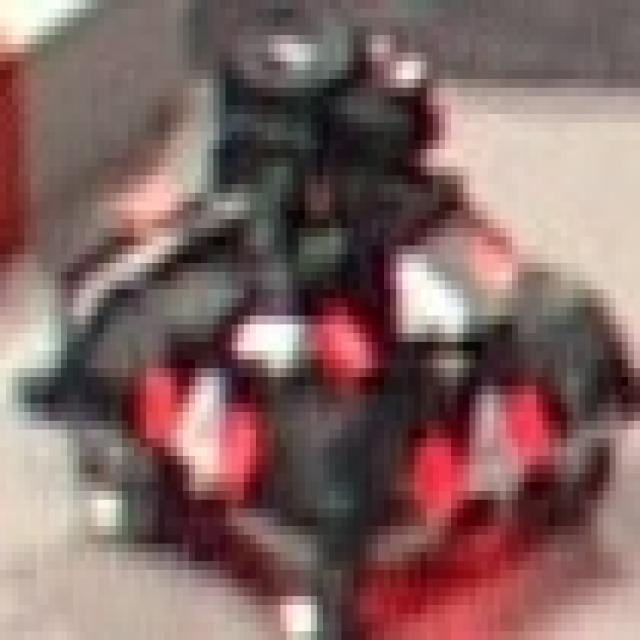R4: (293, 223, 518, 364), (393, 364, 570, 530), (122, 342, 256, 508)
